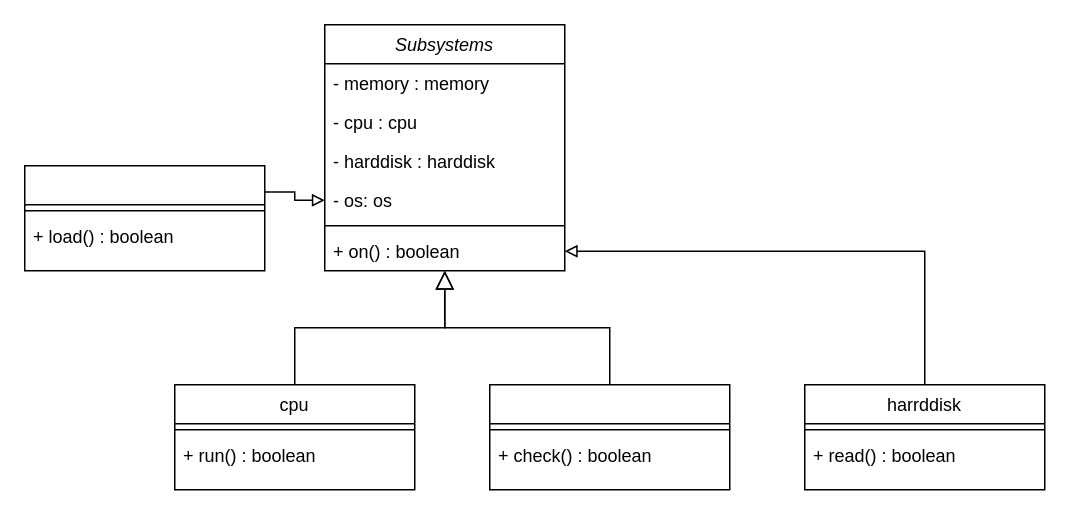
This 1070x515 diagram has some shape labels left out. Each missing label, with the box of its shape:
memory: (488, 383, 730, 490)
os: (23, 164, 265, 271)
